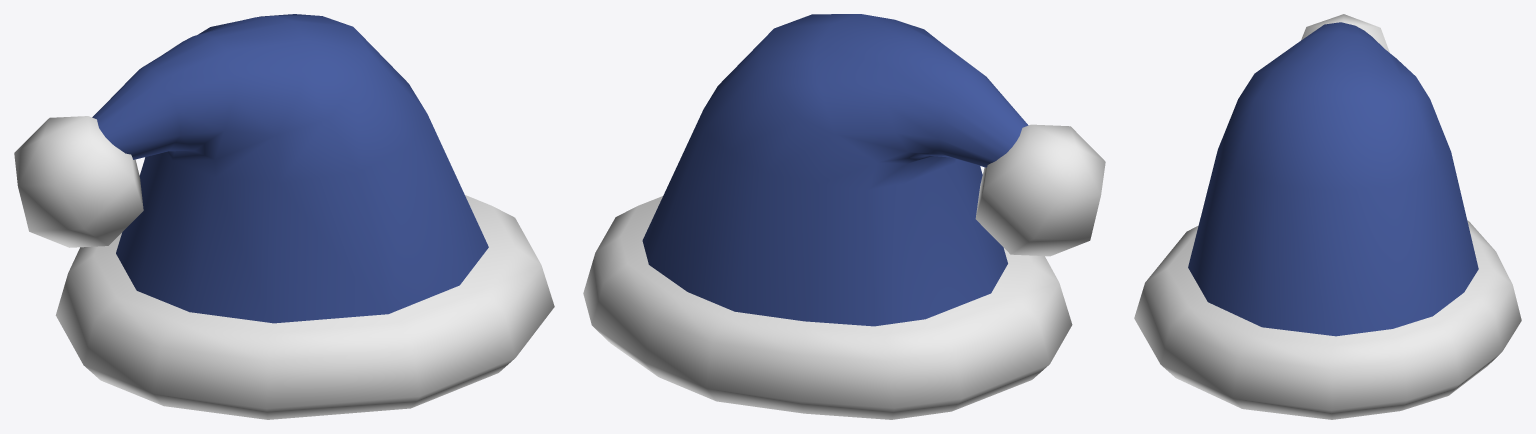
The model's file is SantaHat_01.fbx.
3 renders of one model, left to right at view 1: azimuth 30°, elevation 25°; view 2: azimuth 150°, elevation 25°; view 3: azimuth 270°, elevation 25°, orthographic. The views are drawn at different scales.
Parts seen in each view (by area): view 1: SantaHat_01; view 2: SantaHat_01; view 3: SantaHat_01.
Part boxes in pixels (<box>): SantaHat_01: <box>14,14,554,419</box>; SantaHat_01: <box>583,14,1105,419</box>; SantaHat_01: <box>1134,14,1521,419</box>.
Size of the model in its own units: 0.4073 by 0.2416 by 0.318.
